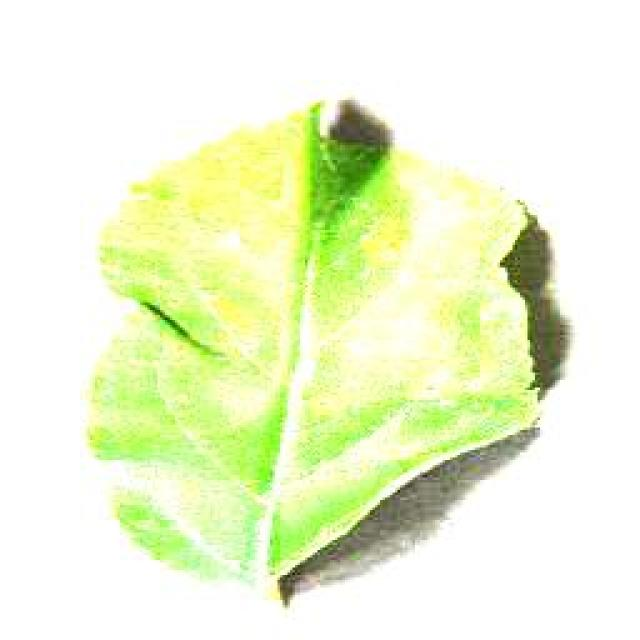apple healthy: (80, 92, 572, 608)
